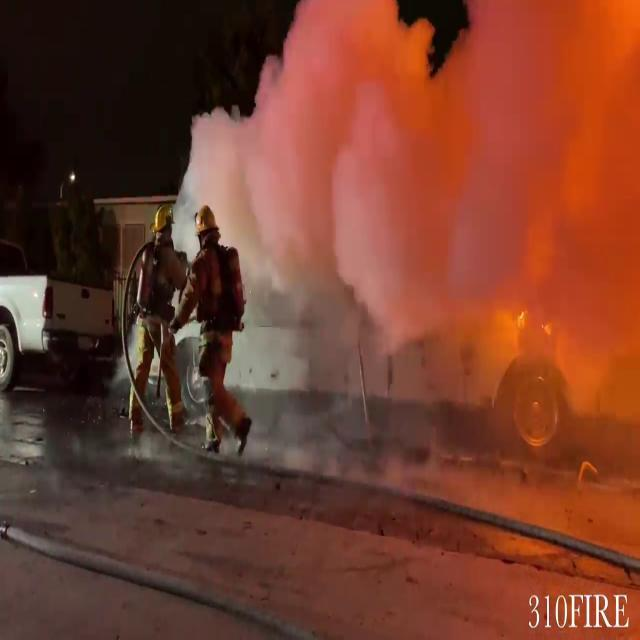Smoke: (186, 1, 640, 374)
